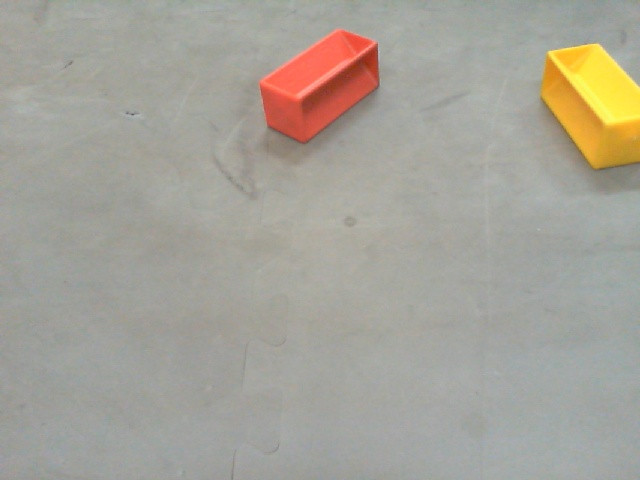RedSample: (261, 29, 379, 144)
YellowSample: (539, 42, 640, 171)
